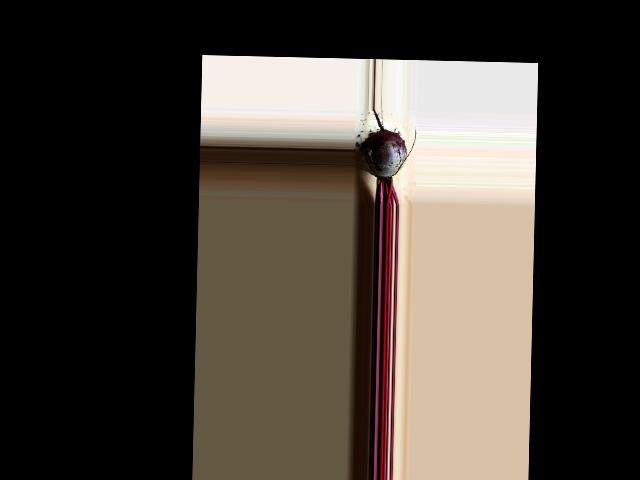beet: (359, 108, 416, 204)
